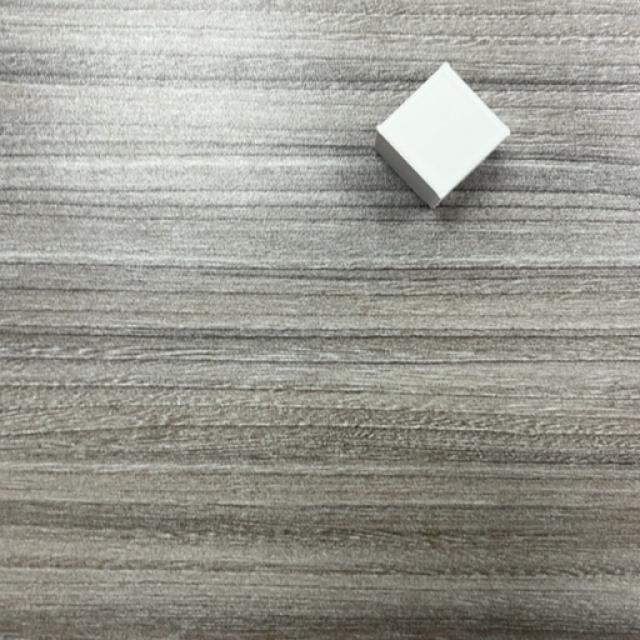Blanco: (375, 64, 510, 209)
